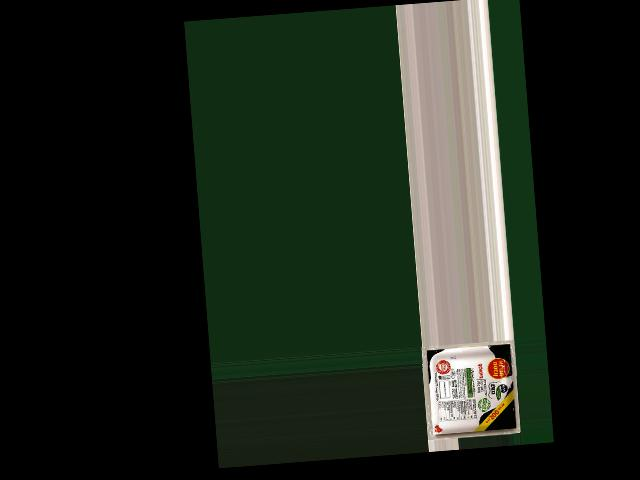cheese: (428, 343, 514, 439)
